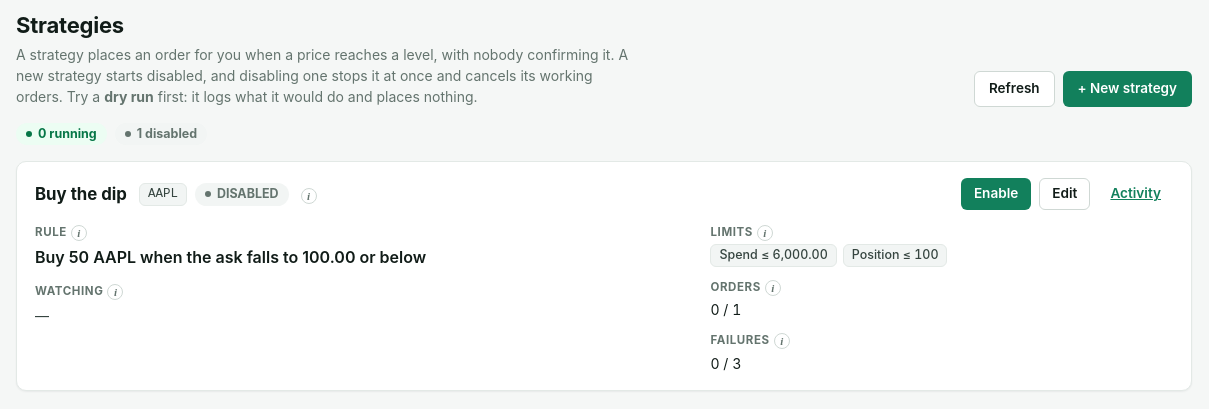
Test: StrategiesComponent › the list › explains every part of a card with an info note that opens on click
Click the button "i" next to "Rule". click: [79, 233]
box: [71,225,87,241]
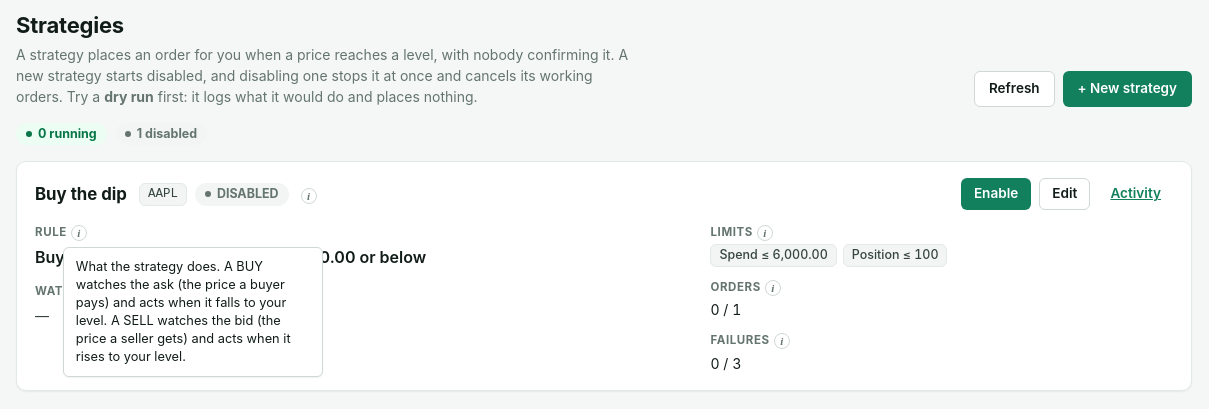
Check: the tooltip shows "A BUY watches the ask", box [76,259,291,364]
